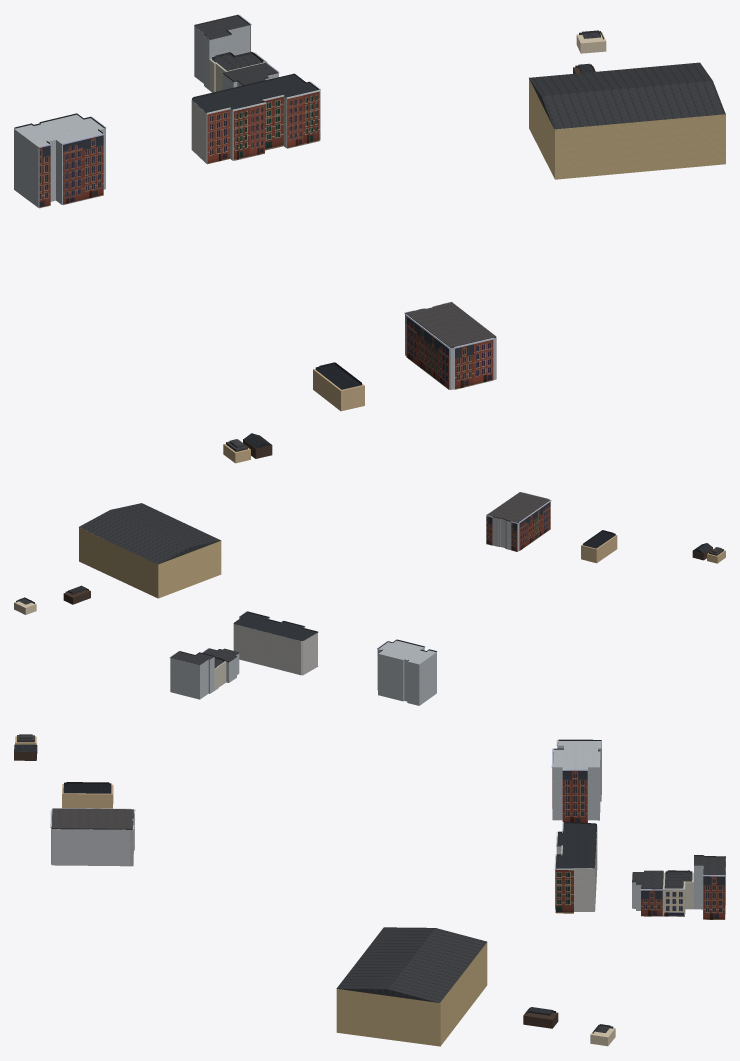
3 views of the same model, one above another, from view 1: azimuth 30°, elevation 25°; view 2: azimuth 150°, elevation 25°; view 3: azimuth 270°, elevation 25° (orthographic). The views are drawn at different scales.
Visible parts, largest first — view 1: bldg_180051355, bldg_180051355_roof, bldg_516834015, bldg_516834015_facade1, bldg_180841015_roof, bldg_29345444_roof, bldg_29345444_facade1, bldg_29345444_facade2, bldg_516635504, bldg_180841015_facade3, bldg_180841015_facade1, bldg_180841015 (+6 smaller); view 2: bldg_180051355, bldg_180051355_roof, bldg_516834015, bldg_180841015, bldg_516635504, bldg_180841015_roof, bldg_29345444_roof, bldg_29345444_facade1, bldg_29345444, bldg_516646842, bldg_516635504_roof; view 3: bldg_180051355_roof, bldg_180051355, bldg_29345444, bldg_516834015, bldg_29345444_roof, bldg_180841015_roof, bldg_516834015_facade2, bldg_180841015, bldg_516635504_facade0, bldg_516646842, bldg_180841015_facade4, bldg_516635505_facade0 (+4 smaller).
Part boxes in pixels (<box>): bldg_180051355: <box>529,62,725,179</box>; bldg_180051355_roof: <box>529,62,725,129</box>; bldg_516834015: <box>14,114,104,207</box>; bldg_516834015_facade1: <box>61,133,104,204</box>; bldg_180841015_roof: <box>192,73,319,112</box>; bldg_29345444_roof: <box>405,302,496,348</box>; bldg_29345444_facade1: <box>405,314,450,389</box>; bldg_29345444_facade2: <box>453,337,494,389</box>; bldg_516635504: <box>194,25,250,89</box>; bldg_180841015_facade3: <box>286,90,320,148</box>; bldg_180841015_facade1: <box>232,102,265,160</box>; bldg_180841015: <box>191,96,286,163</box>; bldg_180051355: <box>79,527,221,598</box>; bldg_180051355_roof: <box>79,503,220,564</box>; bldg_516834015: <box>378,640,436,705</box>; bldg_180841015: <box>233,617,317,675</box>; bldg_516635504: <box>170,657,214,699</box>; bldg_180841015_roof: <box>233,611,317,640</box>; bldg_29345444_roof: <box>487,492,549,523</box>; bldg_29345444_facade1: <box>518,500,551,550</box>; bldg_29345444: <box>493,517,519,551</box>; bldg_516646842: <box>581,535,617,563</box>; bldg_516635504_roof: <box>170,651,214,665</box>; bldg_180051355_roof: <box>336,927,486,1002</box>; bldg_180051355: <box>336,930,487,1046</box>; bldg_29345444: <box>51,811,133,866</box>; bldg_516834015: <box>553,740,601,822</box>; bldg_29345444_roof: <box>51,808,133,829</box>; bldg_180841015_roof: <box>556,822,596,868</box>; bldg_516834015_facade2: <box>562,769,588,822</box>; bldg_180841015: <box>557,825,597,911</box>; bldg_516635504_facade0: <box>703,875,725,919</box>; bldg_516646842: <box>62,784,113,808</box>; bldg_180841015_facade4: <box>555,868,574,913</box>; bldg_516635505_facade0: <box>662,888,685,916</box>.
Bounding box in the file's own units: 228 × 19.11 × 227.
Materials: 25 (17 with a texture image).
